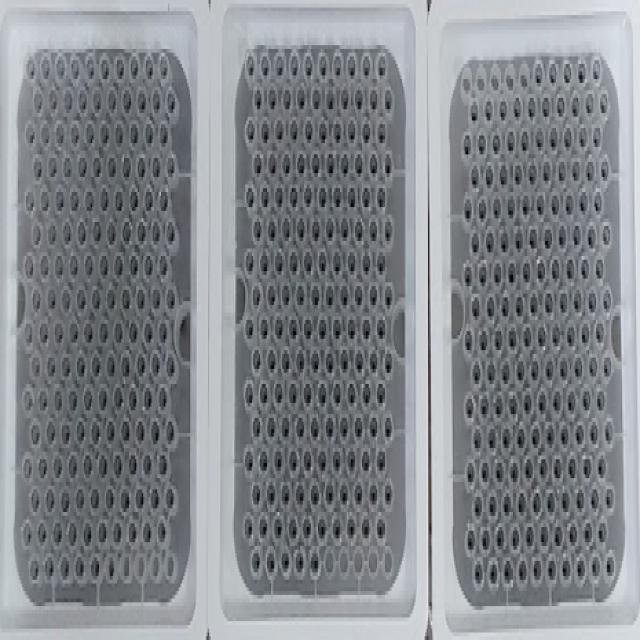vial: (360, 311, 372, 342), (265, 547, 276, 578), (244, 376, 254, 410), (266, 280, 276, 311), (295, 345, 305, 376), (515, 352, 525, 383), (590, 482, 600, 513), (289, 51, 300, 79), (338, 345, 349, 373), (69, 51, 80, 79), (359, 178, 370, 205), (288, 513, 299, 540), (250, 547, 261, 574), (561, 58, 572, 85), (545, 421, 556, 448), (20, 520, 31, 547), (538, 92, 550, 116), (46, 85, 58, 109), (488, 557, 499, 583), (361, 51, 371, 79), (346, 51, 356, 79), (332, 51, 342, 79), (319, 51, 329, 79), (274, 51, 284, 79), (260, 51, 270, 79), (318, 116, 328, 144), (318, 181, 328, 209), (289, 246, 299, 274), (382, 280, 392, 308), (266, 345, 276, 373), (509, 458, 519, 486), (605, 550, 615, 578), (90, 85, 100, 113), (382, 349, 392, 376), (259, 448, 269, 475), (259, 513, 269, 540), (280, 547, 290, 574), (294, 547, 304, 574), (310, 547, 320, 574), (562, 123, 572, 150), (485, 226, 495, 253), (465, 397, 475, 424), (524, 455, 534, 482), (516, 489, 526, 516), (465, 527, 475, 554), (480, 527, 490, 554), (495, 523, 505, 550), (510, 523, 520, 550), (525, 523, 535, 550), (539, 520, 549, 547), (575, 554, 585, 581), (44, 486, 54, 513), (331, 185, 342, 209), (581, 455, 592, 479), (245, 51, 255, 77), (260, 181, 269, 209), (339, 280, 348, 308), (369, 345, 378, 373), (369, 410, 378, 438), (472, 492, 481, 520), (532, 557, 541, 585), (40, 51, 49, 79), (85, 51, 94, 79), (166, 85, 175, 113), (40, 116, 49, 144), (166, 352, 175, 380), (546, 489, 555, 516), (532, 489, 541, 516), (268, 85, 278, 109), (361, 120, 371, 144), (245, 116, 255, 140), (266, 215, 276, 239), (360, 250, 370, 274), (274, 250, 284, 274), (259, 250, 269, 274), (295, 280, 305, 304), (245, 318, 255, 342), (310, 349, 320, 373), (259, 383, 269, 407), (244, 448, 254, 472), (360, 513, 370, 537), (591, 58, 601, 82), (585, 157, 595, 181), (512, 161, 522, 185), (568, 520, 578, 544), (590, 554, 600, 578), (546, 557, 556, 581), (55, 55, 65, 79), (144, 55, 154, 79), (158, 55, 168, 79), (144, 120, 154, 144), (39, 188, 49, 212), (90, 352, 100, 376), (38, 455, 48, 479), (105, 554, 115, 578), (90, 554, 100, 578), (60, 489, 70, 513), (66, 520, 76, 544), (560, 486, 570, 509), (378, 51, 386, 79), (304, 51, 312, 79), (261, 116, 269, 144), (466, 458, 474, 486), (488, 492, 496, 520), (158, 516, 166, 544), (259, 315, 269, 337), (296, 85, 305, 109), (369, 85, 378, 109), (332, 120, 341, 144), (289, 116, 298, 140), (311, 150, 320, 174), (340, 150, 349, 174), (369, 150, 378, 174), (289, 185, 298, 209), (245, 185, 254, 209), (296, 215, 305, 239), (311, 215, 320, 239), (340, 215, 349, 239), (369, 215, 378, 239), (332, 250, 341, 274), (245, 250, 254, 274), (252, 284, 261, 308), (281, 280, 290, 304), (310, 280, 319, 304), (348, 315, 356, 342), (252, 349, 261, 373), (281, 349, 290, 373), (325, 349, 334, 373), (274, 380, 282, 407), (339, 414, 348, 438), (266, 414, 275, 438), (251, 414, 260, 438), (361, 448, 370, 472), (384, 479, 392, 506), (310, 482, 319, 506), (295, 482, 304, 506), (281, 482, 290, 506), (266, 482, 275, 506), (251, 482, 260, 506), (244, 513, 252, 540), (274, 513, 282, 540), (332, 516, 341, 540), (376, 516, 385, 540), (600, 92, 609, 116), (585, 89, 594, 113), (556, 92, 565, 116), (512, 96, 521, 120), (492, 195, 501, 219), (500, 229, 509, 253), (545, 291, 554, 315), (515, 294, 524, 318), (486, 294, 495, 318), (471, 294, 480, 318), (479, 328, 488, 352), (566, 321, 575, 345), (559, 356, 568, 380), (545, 356, 554, 380), (501, 359, 510, 383), (486, 359, 495, 383), (480, 393, 489, 417), (509, 390, 518, 414), (566, 390, 575, 414), (582, 386, 591, 410), (560, 424, 569, 448), (531, 424, 540, 448), (516, 424, 525, 448), (501, 424, 510, 448), (488, 424, 496, 451), (472, 427, 481, 451), (480, 458, 489, 482), (502, 492, 511, 516), (582, 520, 591, 544), (474, 561, 482, 588), (100, 55, 109, 79), (115, 55, 124, 79), (130, 55, 139, 79), (122, 89, 131, 113), (55, 123, 64, 147), (121, 154, 130, 178), (62, 154, 71, 178), (25, 188, 34, 212), (144, 185, 152, 212), (121, 219, 130, 243), (129, 253, 138, 277), (159, 253, 168, 277), (106, 287, 115, 311), (61, 287, 70, 311), (136, 352, 145, 376), (159, 386, 168, 410), (22, 455, 31, 479), (112, 451, 121, 475), (142, 520, 151, 544), (75, 554, 84, 578), (52, 520, 61, 544), (60, 554, 69, 578), (595, 321, 605, 342), (25, 123, 35, 144), (22, 321, 32, 342), (69, 321, 79, 342), (22, 386, 32, 407), (111, 523, 121, 544), (376, 315, 385, 338), (332, 315, 341, 338), (289, 315, 298, 338), (361, 380, 370, 403), (571, 92, 580, 115), (605, 486, 614, 509), (151, 85, 160, 108), (90, 486, 99, 509), (558, 291, 568, 311), (588, 421, 598, 441), (554, 527, 564, 547), (561, 554, 571, 574), (45, 421, 55, 441), (68, 455, 78, 475), (90, 417, 99, 439), (150, 486, 159, 508), (275, 181, 282, 209), (312, 85, 320, 109), (326, 85, 334, 109), (268, 150, 276, 174), (282, 150, 290, 174), (326, 150, 334, 174), (384, 150, 392, 174), (348, 185, 356, 209), (304, 181, 312, 205), (282, 215, 290, 239), (326, 215, 334, 239), (318, 250, 326, 274), (304, 250, 312, 274), (368, 280, 376, 304), (384, 414, 392, 438), (311, 417, 319, 441), (274, 448, 282, 472), (318, 448, 326, 472), (332, 448, 340, 472), (354, 482, 362, 506), (492, 130, 500, 154), (601, 157, 609, 181), (572, 157, 580, 181), (542, 157, 550, 181), (594, 188, 602, 212), (558, 222, 566, 246), (544, 226, 552, 250), (514, 226, 522, 250), (471, 229, 479, 253), (494, 260, 502, 284), (530, 291, 538, 315), (574, 356, 582, 380), (472, 359, 480, 383), (576, 489, 584, 513), (518, 557, 526, 581), (34, 89, 42, 113), (114, 188, 122, 212), (160, 188, 168, 212), (100, 253, 108, 277), (114, 253, 122, 277), (144, 253, 152, 277), (144, 386, 152, 410), (128, 520, 136, 544), (340, 85, 349, 106), (369, 482, 378, 503), (325, 482, 334, 503), (302, 516, 311, 537), (534, 58, 541, 85), (462, 133, 471, 154), (536, 256, 545, 277), (530, 359, 539, 380), (70, 123, 79, 144), (85, 123, 94, 144), (100, 123, 109, 144), (130, 123, 139, 144), (159, 123, 168, 144), (70, 188, 79, 209), (69, 253, 78, 274), (166, 287, 175, 308), (151, 287, 160, 308), (136, 287, 145, 308), (121, 287, 130, 308), (90, 287, 99, 308), (46, 287, 55, 308), (39, 321, 48, 342), (99, 321, 108, 342), (112, 321, 121, 342), (129, 321, 138, 342), (30, 557, 39, 578), (304, 315, 312, 338), (274, 315, 282, 338), (578, 62, 586, 85), (550, 127, 558, 150), (164, 486, 172, 509), (325, 284, 334, 304), (346, 448, 355, 468), (376, 448, 385, 468), (506, 130, 515, 150), (592, 127, 601, 147), (521, 195, 530, 215), (586, 226, 595, 246), (552, 390, 561, 410), (596, 390, 605, 410), (136, 89, 145, 109), (62, 89, 71, 109), (120, 356, 129, 376), (61, 356, 70, 376), (121, 421, 130, 441), (61, 424, 70, 444), (31, 424, 40, 444), (99, 455, 108, 475), (135, 486, 144, 506), (120, 489, 129, 509), (105, 489, 114, 509), (75, 489, 84, 509), (45, 554, 54, 574), (318, 315, 326, 337), (494, 325, 502, 347), (568, 455, 576, 477), (332, 383, 341, 402), (281, 417, 290, 436), (346, 516, 355, 535), (129, 188, 138, 207), (254, 85, 261, 109), (355, 85, 362, 109), (384, 85, 391, 109), (355, 150, 362, 174), (378, 185, 385, 209), (355, 219, 362, 243), (348, 250, 355, 274), (354, 417, 362, 438), (296, 417, 304, 438), (340, 482, 348, 503), (318, 516, 326, 537), (528, 96, 535, 120), (484, 99, 492, 120), (470, 99, 478, 120), (529, 161, 536, 185), (500, 164, 508, 185), (485, 164, 492, 188), (580, 191, 588, 212), (508, 260, 515, 284), (566, 256, 574, 277), (501, 294, 509, 315), (509, 325, 516, 349), (581, 321, 589, 342), (494, 393, 502, 414), (524, 390, 531, 414), (495, 458, 502, 482), (554, 458, 562, 479), (26, 58, 34, 79), (152, 157, 160, 178), (138, 154, 145, 178), (108, 157, 116, 178), (56, 188, 64, 209), (166, 222, 174, 243), (138, 219, 145, 243), (78, 222, 86, 243), (62, 222, 70, 243), (24, 253, 32, 274), (40, 253, 48, 274), (85, 253, 92, 277), (84, 321, 92, 342), (84, 386, 91, 410), (99, 386, 106, 410), (129, 386, 136, 410), (54, 455, 61, 479), (142, 451, 150, 472), (38, 523, 46, 544), (549, 62, 556, 85), (558, 157, 565, 180), (348, 120, 356, 140), (376, 383, 384, 403), (521, 130, 529, 150), (471, 168, 479, 188), (551, 195, 559, 215), (572, 226, 580, 246), (522, 260, 530, 280), (551, 260, 559, 280), (588, 291, 596, 311), (552, 325, 560, 345), (576, 424, 584, 444), (538, 455, 546, 475), (78, 89, 86, 109), (91, 219, 99, 239), (32, 291, 40, 311), (106, 356, 114, 376), (76, 356, 84, 376), (38, 390, 46, 410), (54, 390, 62, 410), (166, 421, 174, 441), (151, 421, 159, 441), (136, 421, 144, 441), (106, 421, 114, 441), (76, 421, 84, 441), (158, 455, 166, 475), (98, 520, 106, 540), (31, 489, 39, 509), (289, 380, 296, 402), (580, 260, 589, 277), (318, 383, 326, 402), (152, 352, 160, 371), (378, 123, 385, 144), (378, 253, 385, 274), (304, 451, 311, 472), (499, 99, 506, 120), (464, 198, 471, 219), (479, 198, 486, 219), (565, 191, 572, 212), (529, 229, 536, 250), (464, 263, 471, 284), (479, 263, 486, 284), (115, 123, 122, 144), (79, 157, 86, 178), (34, 157, 41, 178), (85, 191, 92, 212), (108, 222, 115, 243), (48, 222, 55, 243), (55, 256, 62, 277), (78, 287, 85, 308), (144, 321, 151, 342), (159, 321, 166, 342), (84, 523, 91, 544), (305, 120, 312, 140), (275, 120, 282, 140), (254, 154, 261, 174), (298, 154, 305, 174), (355, 284, 362, 304), (355, 349, 362, 369), (304, 383, 311, 403), (348, 383, 355, 403), (535, 127, 542, 147), (508, 195, 515, 215), (604, 291, 611, 311), (574, 291, 581, 311), (524, 325, 531, 345), (538, 325, 545, 345), (604, 356, 611, 376), (605, 421, 612, 441), (598, 455, 605, 475), (504, 561, 511, 581), (108, 89, 115, 109), (84, 455, 91, 475), (129, 455, 136, 475), (536, 195, 544, 212), (602, 226, 610, 243), (538, 386, 546, 403), (92, 157, 100, 174), (48, 157, 56, 174), (31, 356, 39, 373), (68, 390, 76, 407), (599, 520, 606, 539), (326, 417, 332, 438), (479, 133, 485, 154), (579, 127, 586, 145), (596, 256, 602, 277), (465, 328, 471, 349), (100, 188, 106, 209), (55, 321, 61, 342), (284, 89, 290, 109), (254, 219, 260, 239), (384, 219, 390, 239), (289, 451, 296, 468), (589, 356, 596, 373), (152, 222, 159, 239), (114, 386, 121, 403), (166, 157, 172, 174), (34, 226, 40, 241), (46, 356, 52, 369)
